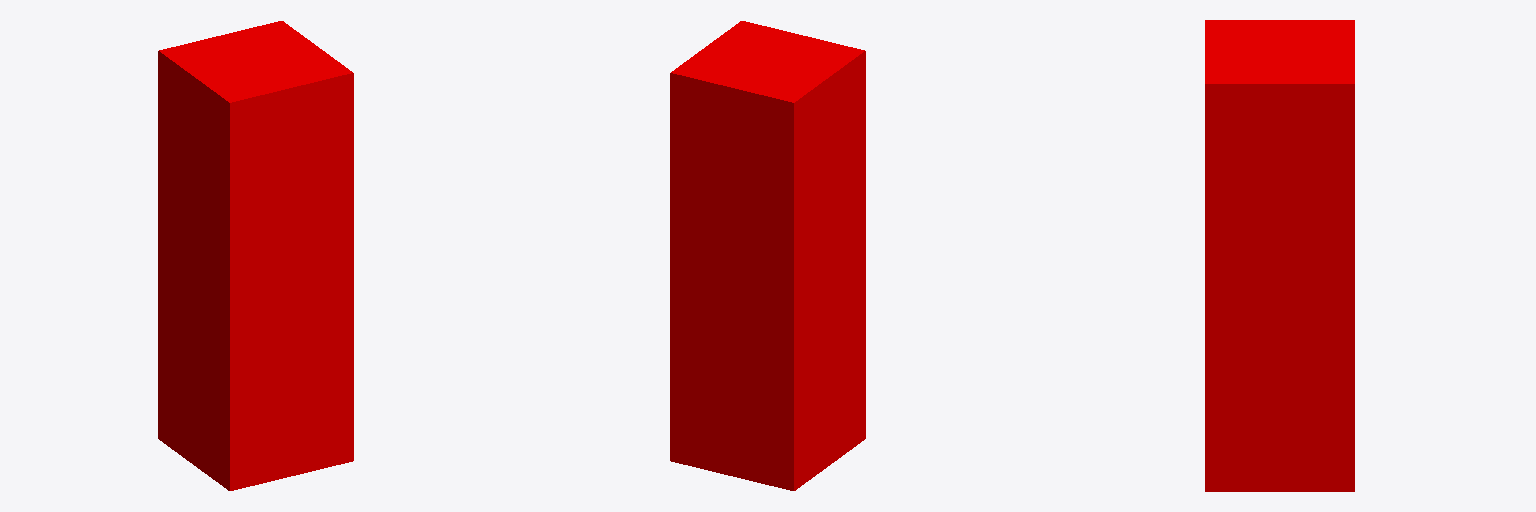
URDF robot description (1in rectangular block.SLDPRT):
<?xml version="1.0" encoding="utf-8"?>
<!-- This URDF was automatically created by SolidWorks to URDF Exporter! Originally created by [author] ([email redacted]) 
     Commit Version: 1.5.1-0-g916b5db  Build Version: 1.5.7152.31018
     For more information, please see http://wiki.ros.org/sw_urdf_exporter -->
<robot
  name="1in rectangular block.SLDPRT">
  <link
    name="1in rectangular block.SLDPRT">
    <inertial>
      <origin
        xyz="0.0127 0.0127 0.0381"
        rpy="0 0 0" />
      <mass
        value="0.049161" />
      <inertia
        ixx="2.6431E-05"
        ixy="3.6183E-22"
        ixz="9.8195E-22"
        iyy="2.6431E-05"
        iyz="-1.09017894454694E-21"
        izz="5.2861E-06" />
    </inertial>
    <visual>
      <origin
        xyz="0 0 0"
        rpy="1.5707963267949 0 0" />
      <geometry>
        <mesh
          filename="package://1in rectangular block.SLDPRT/meshes/1in rectangular block.SLDPRT.STL" />
      </geometry>
      <material
        name="">
        <color
          rgba="1 0 0 1" />
        <texture
          filename="package://1in rectangular block.SLDPRT/textures/" />
      </material>
    </visual>
    <collision>
      <origin
        xyz="0 0 0"
        rpy="1.5707963267949 0 0" />
      <geometry>
        <mesh
          filename="package://1in rectangular block.SLDPRT/meshes/1in rectangular block.SLDPRT.STL" />
      </geometry>
    </collision>
  </link>
</robot>

--- What the picture shows (computed from the rendered views, not written in the file) ---
Views: 3 orthographic renders of the robot side by side, from view 1: azimuth 30°, elevation 25°; view 2: azimuth 150°, elevation 25°; view 3: azimuth 270°, elevation 25°.
Robot: 1in rectangular block.SLDPRT — 1 links, 0 joints (none); root link 1in rectangular block.SLDPRT; default pose: every joint at zero.
Visible links, largest first — view 1: 1in rectangular block.SLDPRT; view 2: 1in rectangular block.SLDPRT; view 3: 1in rectangular block.SLDPRT.
Link boxes in pixels (box(x1,y1,x2,y2)): 1in rectangular block.SLDPRT: box(158, 21, 353, 490); 1in rectangular block.SLDPRT: box(670, 21, 865, 490); 1in rectangular block.SLDPRT: box(1205, 20, 1354, 491).
Bounding box of the posed robot: 0.0254 × 0.0254 × 0.0762 m (x, y, z).
1 mesh visuals loaded from 1 distinct referenced files (1 binary STL).
